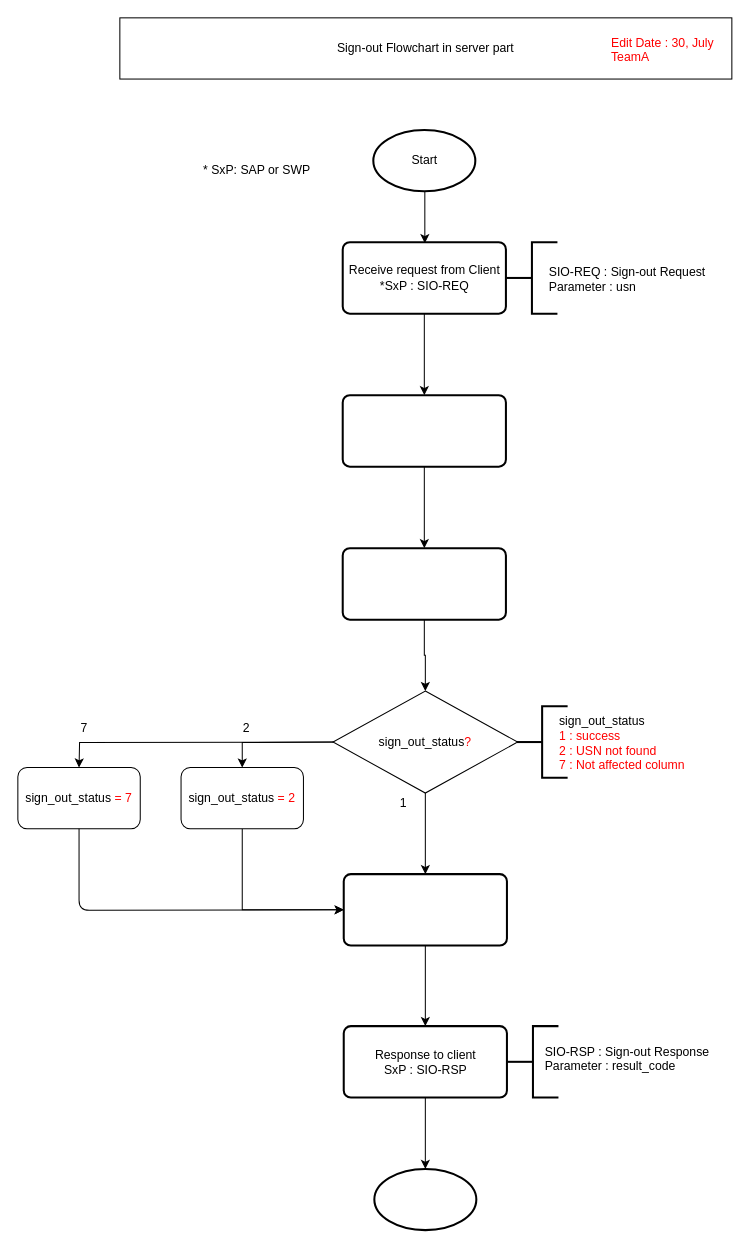
Some shapes in this 750 by 1248 pixel diagram are drawn without their labels. The centre of each missing label's shape, as x and y in pixels:
"END" goes at [425,1199].
"result_code = sign_out_status" goes at [424,909].
"sign_out_status = sign_out_process()" goes at [423,583].
"UPDATE is_sign_in = 0 SET user_authorized where usn = $usn_sign" goes at [423,430].
